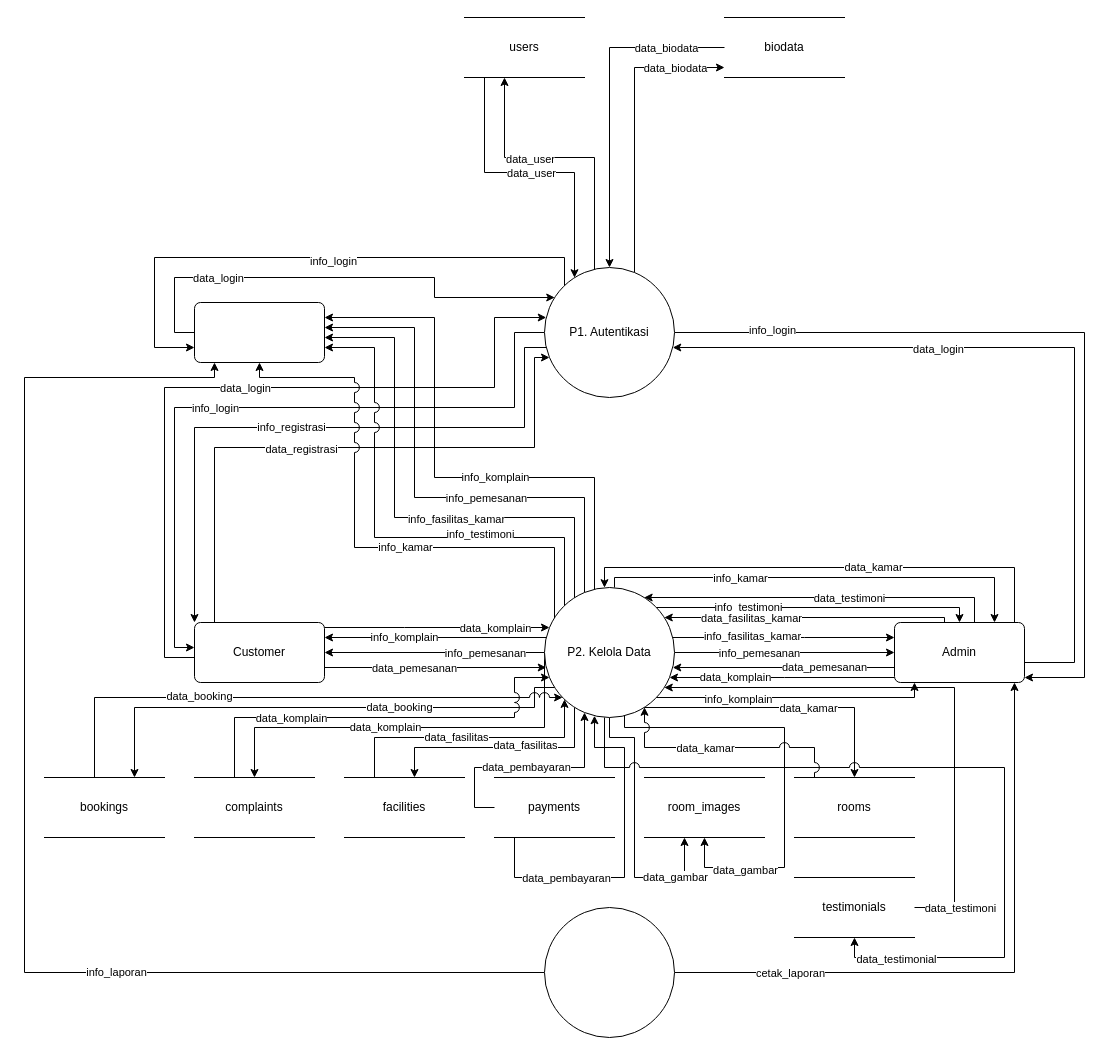
The diagram is 1110 pixels wide and 1055 high, and some of its shapes have lost their labels. Here are the shapes that lost their labels. From the top down, the box of each, then its label:
(194, 302, 324, 362): Staff
(544, 906, 674, 1038): P3. Cetak Laporan
